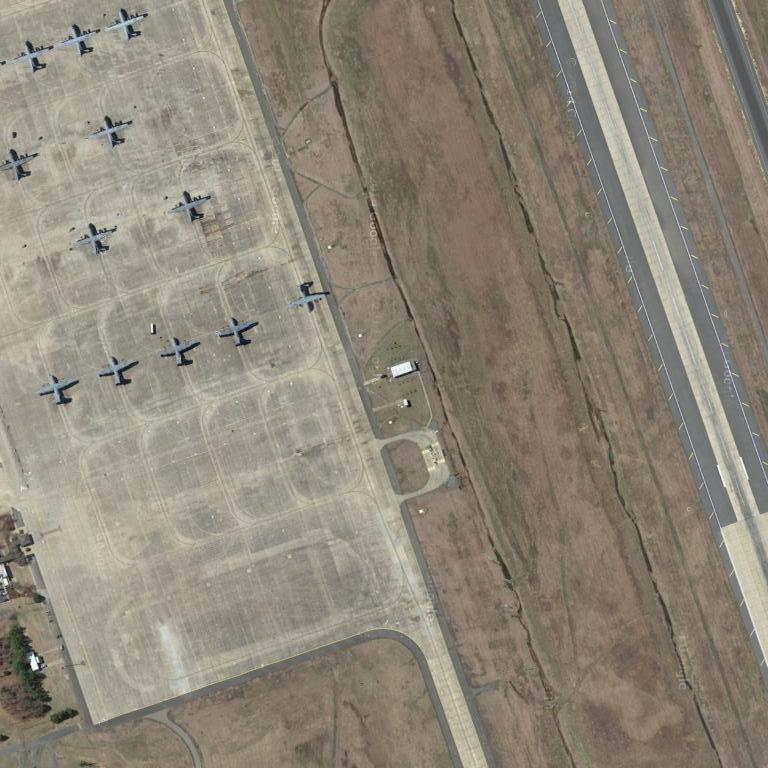C-130: (9, 35, 55, 78), (103, 7, 150, 46), (56, 22, 102, 61), (94, 353, 142, 390), (288, 275, 328, 319), (72, 221, 119, 258), (37, 370, 81, 408), (169, 190, 213, 228), (88, 116, 135, 151), (158, 334, 202, 369), (216, 316, 259, 350), (0, 148, 37, 185)
